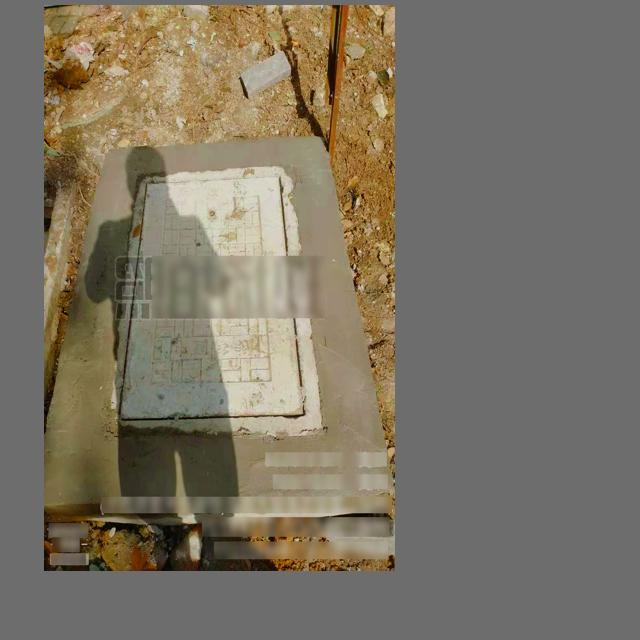good: (110, 165, 322, 433)
